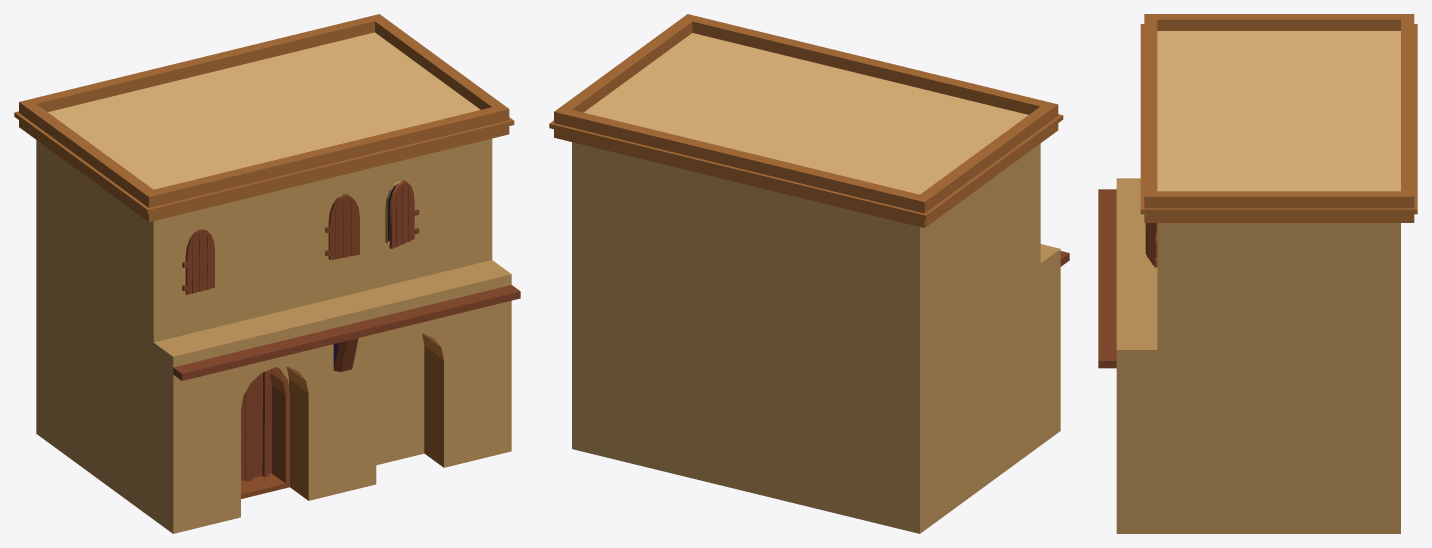
File: Arab_house4.fbx
3 views of the same model, side by side, from view 1: azimuth 30°, elevation 25°; view 2: azimuth 150°, elevation 25°; view 3: azimuth 270°, elevation 25° (orthographic). The views are drawn at different scales.
Visible parts, largest first — view 1: Cube.004; view 2: Cube.004; view 3: Cube.004.
Part boxes in pixels (x1=…): Cube.004: x1=14, y1=14, x2=520, y2=533; Cube.004: x1=549, y1=14, x2=1069, y2=533; Cube.004: x1=1098, y1=14, x2=1417, y2=533.
Bounding box in the file's own units: 1083 × 931 × 787.
1 material, 1 textured.
